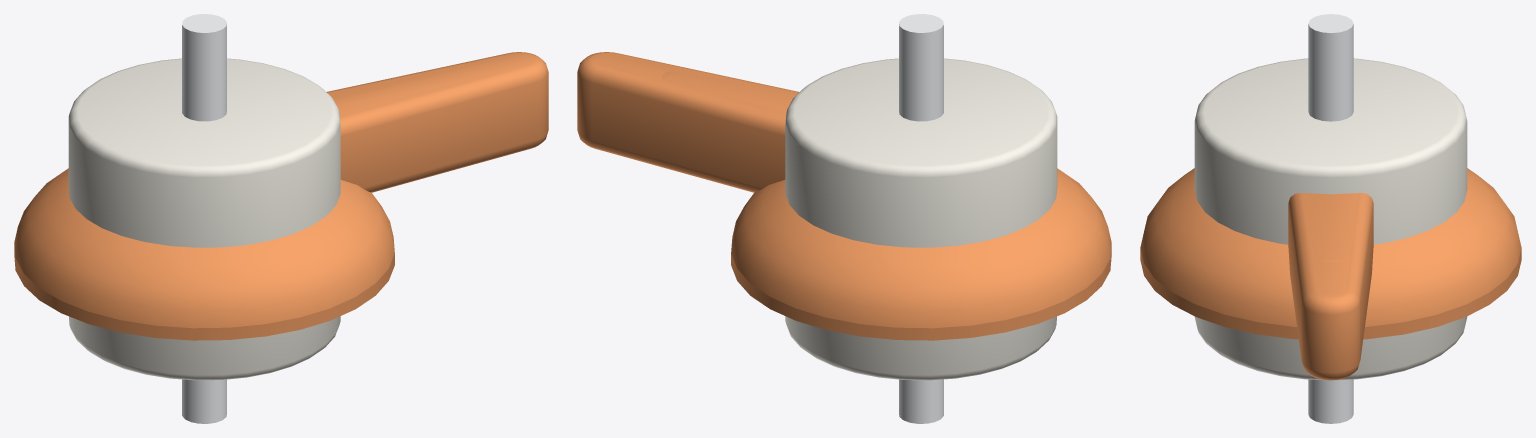
Rendered from parts.glb.
3 renders of one model, left to right at view 1: azimuth 30°, elevation 25°; view 2: azimuth 150°, elevation 25°; view 3: azimuth 270°, elevation 25°, orthographic.
Parts seen in each view (by area): view 1: bumper_body, bumper_cap, flipper_bat, plunger_rod, flipper_bat_upper; view 2: bumper_body, bumper_cap, flipper_bat, plunger_rod, flipper_bat_upper; view 3: bumper_body, bumper_cap, flipper_bat, plunger_rod, flipper_bat_upper.
Part boxes in pixels (x1=…): bumper_body: x1=68, y1=58, x2=340, y2=380; bumper_cap: x1=14, y1=168, x2=394, y2=340; flipper_bat: x1=326, y1=52, x2=548, y2=192; plunger_rod: x1=182, y1=14, x2=226, y2=423; flipper_bat_upper: x1=329, y1=70, x2=463, y2=116; bumper_body: x1=785, y1=58, x2=1057, y2=380; bumper_cap: x1=731, y1=168, x2=1111, y2=340; flipper_bat: x1=577, y1=52, x2=799, y2=192; plunger_rod: x1=899, y1=14, x2=943, y2=423; flipper_bat_upper: x1=662, y1=70, x2=795, y2=116; bumper_body: x1=1194, y1=58, x2=1467, y2=380; bumper_cap: x1=1140, y1=168, x2=1521, y2=339; flipper_bat: x1=1288, y1=193, x2=1373, y2=380; plunger_rod: x1=1308, y1=14, x2=1353, y2=423; flipper_bat_upper: x1=1304, y1=193, x2=1357, y2=262.
Bounding box in the file's own units: 1.28 × 0.95 × 0.84.
